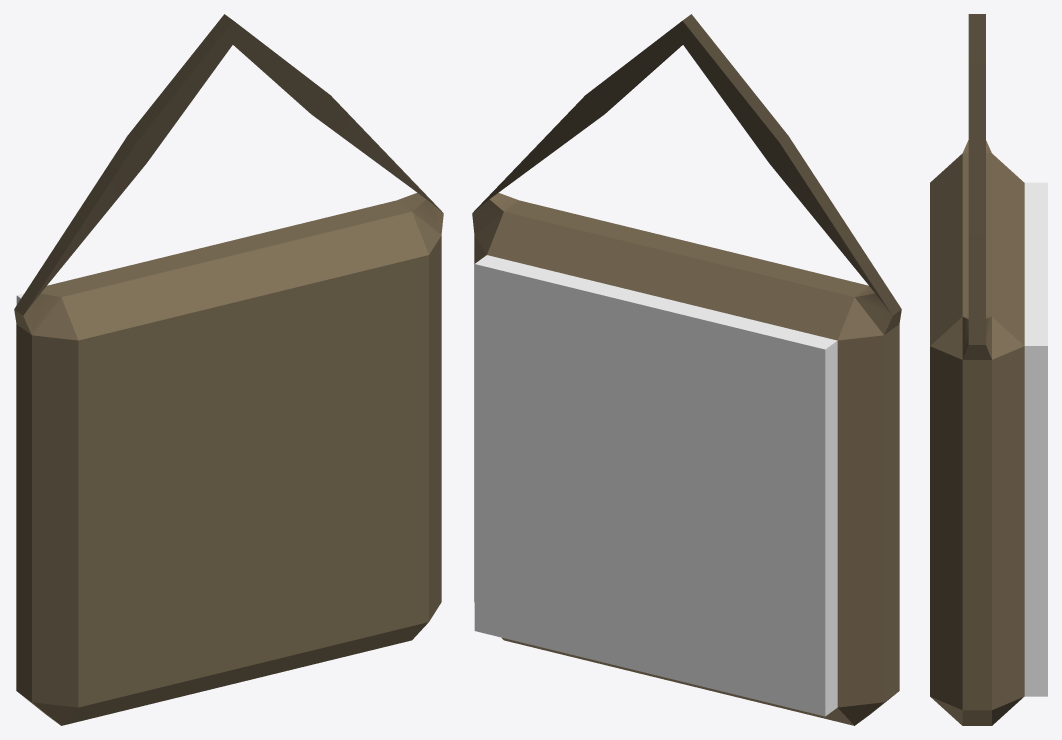
File: picture.fbx
3 renders of one model, left to right at view 1: azimuth 30°, elevation 25°; view 2: azimuth 150°, elevation 25°; view 3: azimuth 270°, elevation 25°, orthographic. The views are drawn at different scales.
Parts seen in each view (by area): view 1: cuadro; view 2: cuadro; view 3: cuadro.
Part boxes in pixels (x1,y1,x2,y2): cuadro: (14, 14, 443, 725); cuadro: (472, 14, 901, 725); cuadro: (930, 14, 1047, 725).
Size of the model in its own units: 1.03 by 0.2613 by 1.54.
